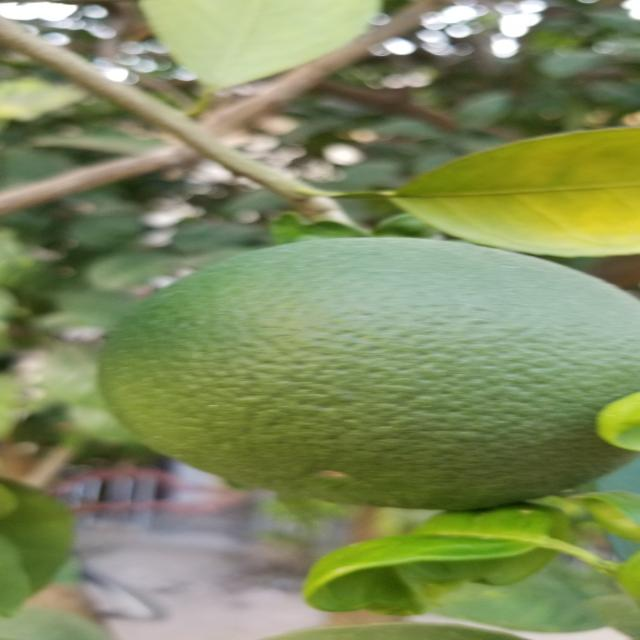Unripe: (94, 233, 640, 526)
